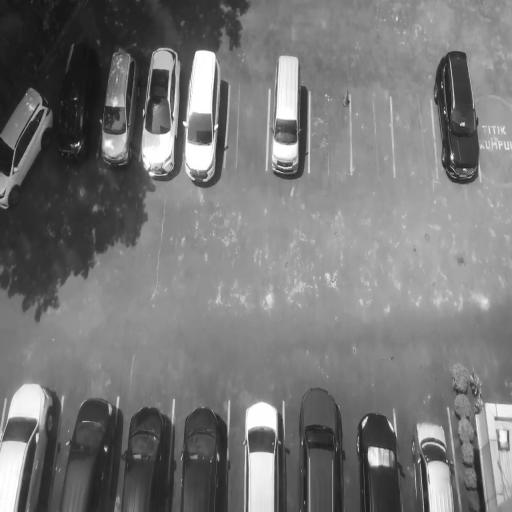Car: (0, 77, 54, 233), (428, 42, 484, 192), (0, 377, 57, 512), (293, 382, 346, 512), (58, 390, 114, 512), (137, 40, 182, 190), (348, 398, 404, 512), (54, 32, 100, 169), (119, 400, 170, 512), (182, 45, 222, 187), (178, 395, 225, 512), (98, 42, 138, 176), (239, 391, 283, 512), (269, 45, 307, 179), (409, 413, 459, 512)
Space Available: (224, 81, 270, 170), (391, 92, 438, 176), (351, 88, 394, 175), (309, 84, 350, 175), (476, 97, 512, 182)
